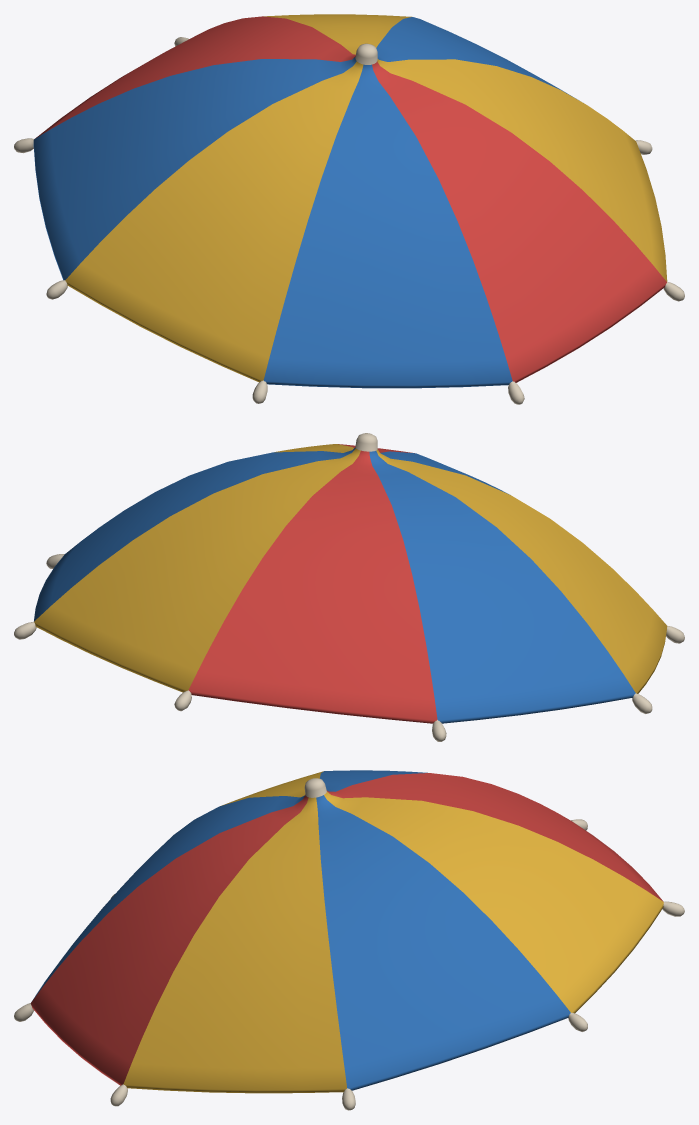
The model's file is Cosmetic_Umbrella_Hat.glb.
The picture shows the model from 3 angles, top to bottom: view 1: azimuth 30°, elevation 25°; view 2: azimuth 150°, elevation 25°; view 3: azimuth 270°, elevation 25°; orthographic projection. The views are drawn at different scales.
Visible parts, largest first — view 1: Cosmetic_Umbrella_Hat; view 2: Cosmetic_Umbrella_Hat; view 3: Cosmetic_Umbrella_Hat.
Boxes of the visible parts, box(x1,y1,x2,y2) form: Cosmetic_Umbrella_Hat: box(14, 14, 684, 404); Cosmetic_Umbrella_Hat: box(14, 433, 684, 741); Cosmetic_Umbrella_Hat: box(14, 770, 684, 1110).
Size of the model in its own units: 1.57 by 0.6135 by 1.54.
